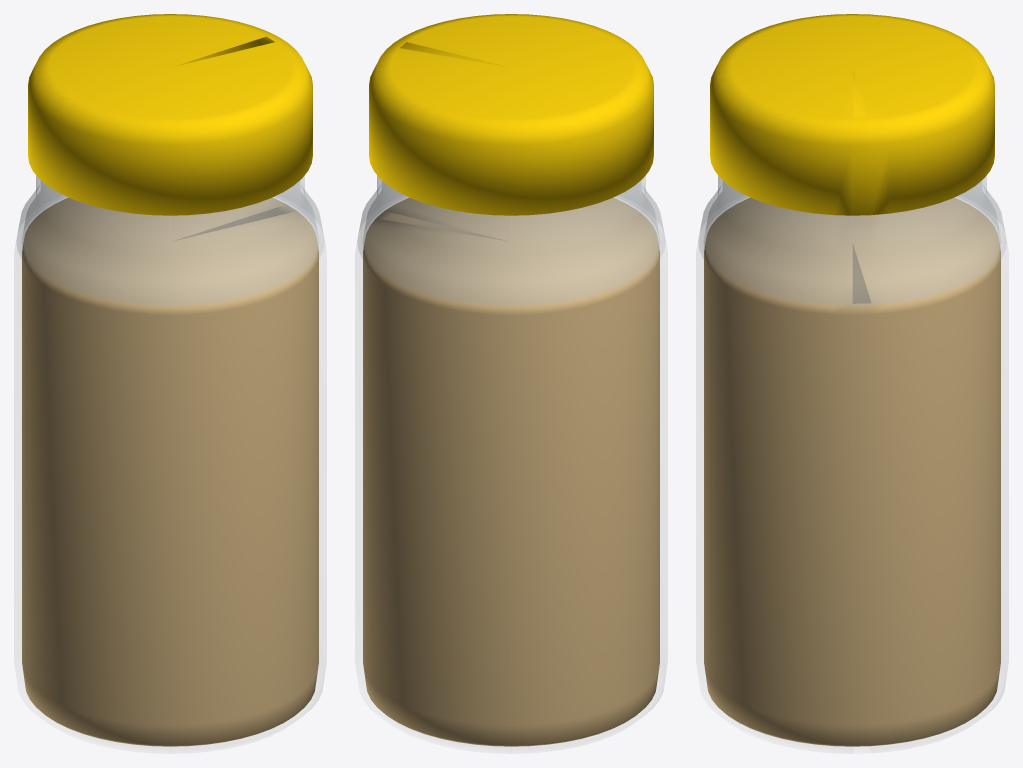
The model's file is item-sesame_shaker_100.glb.
3 renders of one model, left to right at view 1: azimuth 30°, elevation 25°; view 2: azimuth 150°, elevation 25°; view 3: azimuth 270°, elevation 25°, orthographic.
Visible parts, largest first — view 1: contents, cap, body, wall; view 2: contents, cap, body, wall; view 3: contents, cap, body, wall.
Boxes of the visible parts, bbox=[...] form: contents: bbox=[22, 197, 318, 746]; cap: bbox=[28, 14, 312, 215]; body: bbox=[14, 175, 326, 753]; wall: bbox=[22, 181, 318, 304]; contents: bbox=[363, 197, 659, 746]; cap: bbox=[369, 14, 653, 215]; body: bbox=[355, 175, 667, 753]; wall: bbox=[363, 181, 659, 304]; contents: bbox=[704, 197, 1000, 746]; cap: bbox=[710, 14, 994, 215]; body: bbox=[696, 109, 1008, 753]; wall: bbox=[704, 181, 1000, 304].
Size of the model in its own units: 0.052 by 0.115 by 0.052.
